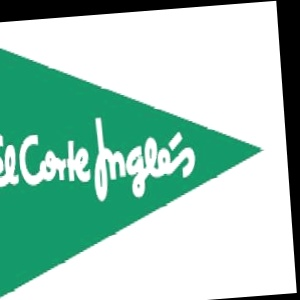corte_ingles: (256, 54, 270, 159)
